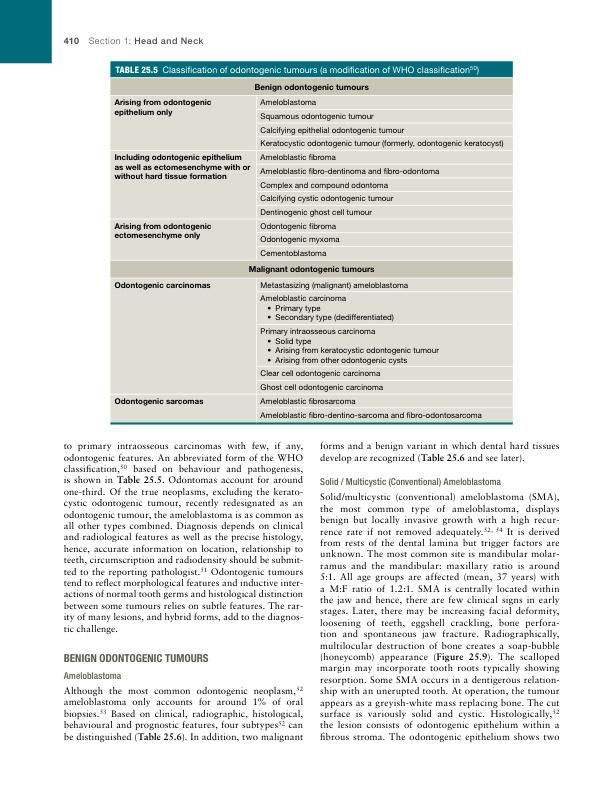caption: (114, 65, 480, 76)
header: (88, 36, 204, 45)
section-heading: (63, 653, 209, 663)
sub-section-heading: (319, 477, 502, 487), (63, 671, 123, 680)
table: (110, 77, 513, 423)
text: (319, 492, 561, 743), (62, 441, 304, 635), (62, 685, 304, 743), (319, 441, 560, 464)
